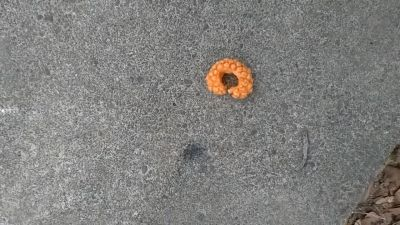eggs: (202, 56, 254, 100)
